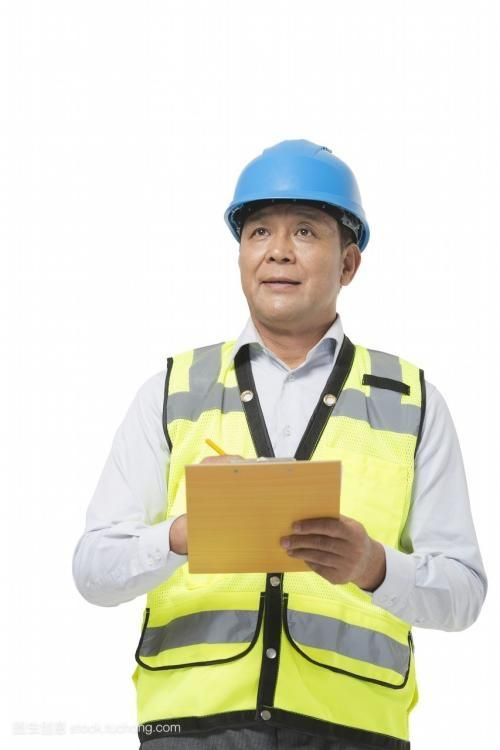helmet: (224, 135, 368, 226)
wear: (144, 356, 426, 750)
